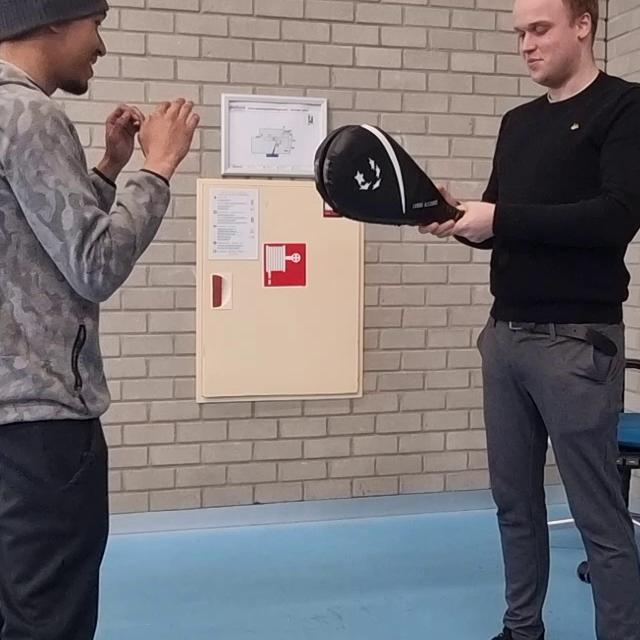paddle: (315, 122, 463, 227)
